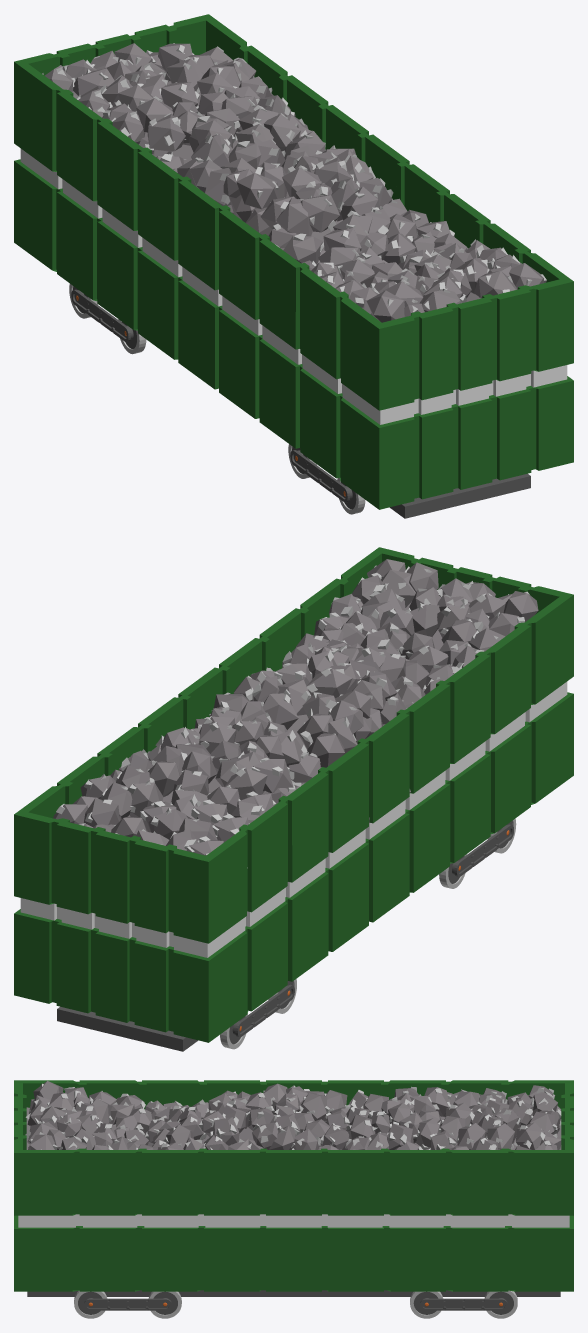
File: iron_container.glb
3 views of the same model, one above another, from view 1: azimuth 30°, elevation 25°; view 2: azimuth 150°, elevation 25°; view 3: azimuth 270°, elevation 25° (orthographic). The views are drawn at different scales.
Visible parts, largest first — view 1: IronContainer, Iron, Base, WheelConector; view 2: IronContainer, Iron, Base, WheelConector; view 3: IronContainer, Iron, Base, WheelConector, Wheel_6, Wheel_3, Wheel_2, Wheel_7.
Part boxes in pixels (left/top/right/bottom): IronContainer: left=14, top=14, right=573, bottom=509; Iron: left=42, top=43, right=546, bottom=322; Base: left=389, top=473, right=530, bottom=518; WheelConector: left=71, top=289, right=349, bottom=502; IronContainer: left=14, top=547, right=573, bottom=1042; Iron: left=53, top=559, right=538, bottom=868; Base: left=57, top=1006, right=198, bottom=1051; WheelConector: left=235, top=824, right=513, bottom=1037; IronContainer: left=14, top=1080, right=573, bottom=1291; Iron: left=25, top=1081, right=561, bottom=1149; Base: left=27, top=1290, right=560, bottom=1296; WheelConector: left=84, top=1298, right=507, bottom=1310; Wheel_6: left=484, top=1290, right=517, bottom=1318; Wheel_3: left=74, top=1290, right=107, bottom=1318; Wheel_2: left=148, top=1291, right=181, bottom=1318; Wheel_7: left=410, top=1291, right=443, bottom=1318.
Size of the model in its own units: 3.38 by 4.14 by 10.98.
